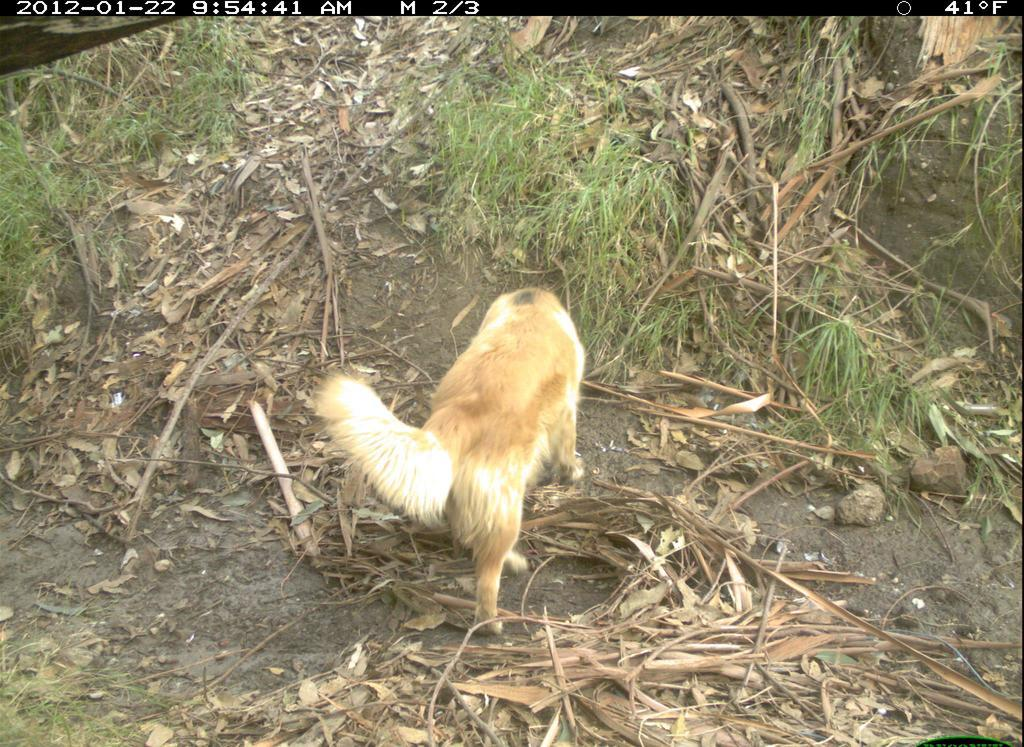dog: (295, 264, 607, 643)
